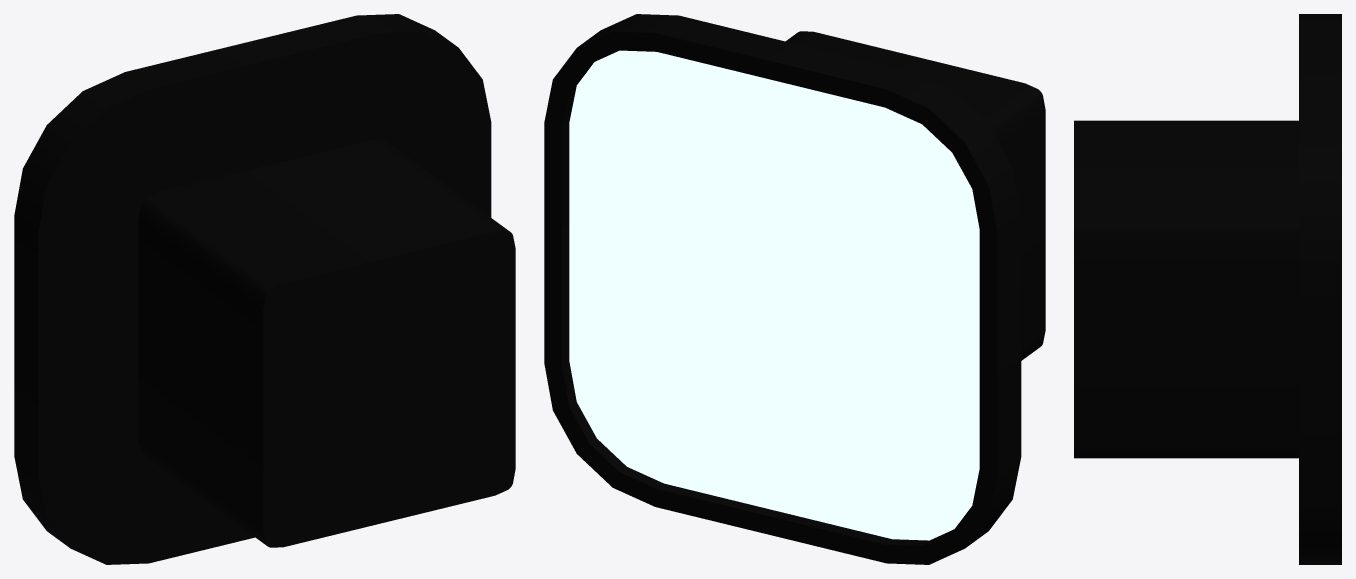
Rendered from display_panel.glb.
The picture shows the model from 3 angles, left to right: view 1: azimuth 30°, elevation 25°; view 2: azimuth 150°, elevation 25°; view 3: azimuth 270°, elevation 25°; orthographic projection. The views are drawn at different scales.
Visible parts, largest first — view 1: Cube; view 2: Cube; view 3: Cube.
Part boxes in pixels (x1,y1,x2,y2): Cube: (14, 14, 515, 564); Cube: (544, 14, 1045, 564); Cube: (1074, 14, 1341, 564).
Bounding box in the file's own units: 3.04 × 3.04 × 1.72.
